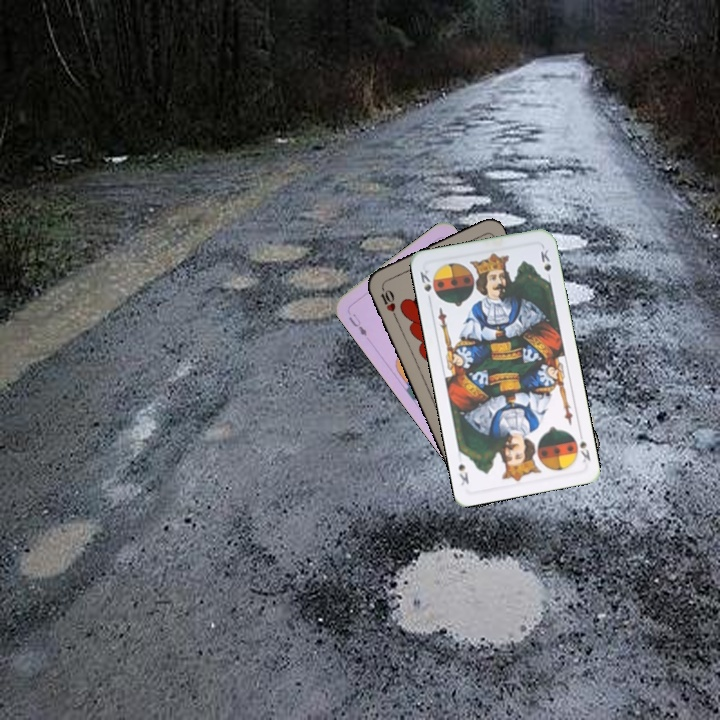EU: (344, 309, 370, 339)
H10: (377, 282, 399, 321)
SK: (569, 427, 593, 465), (416, 266, 434, 294)
